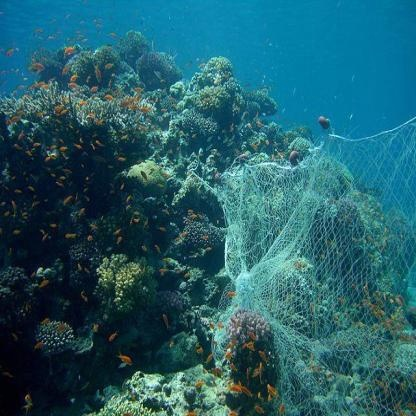net: (218, 127, 416, 412)
